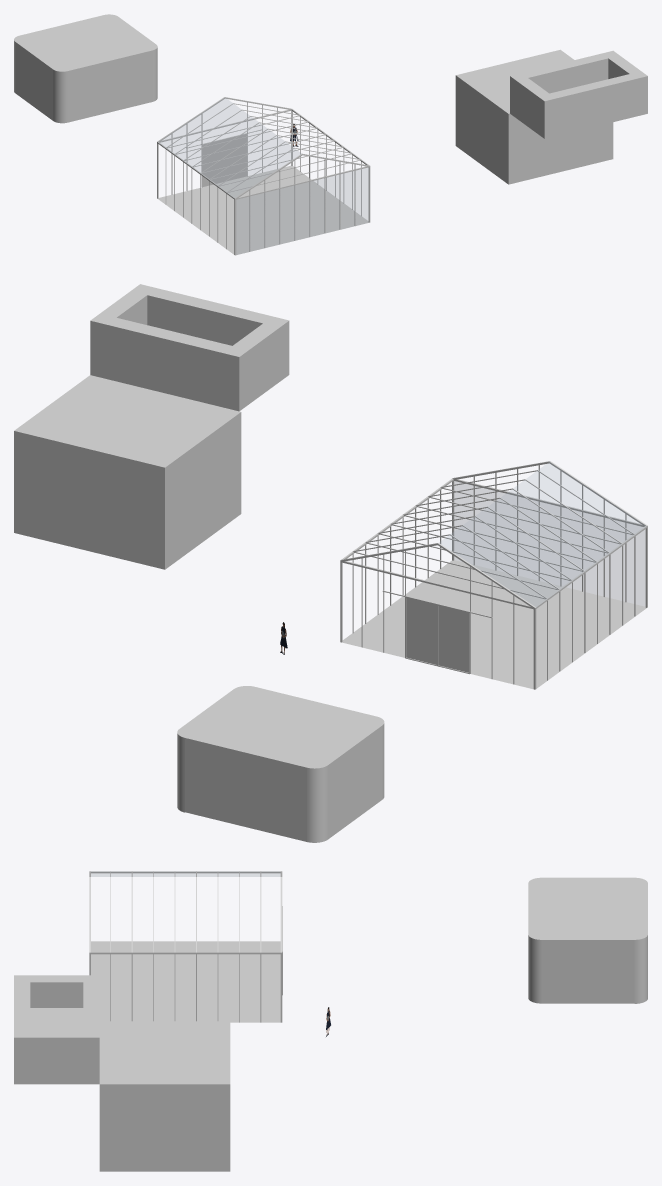
File: Мой первый 3Д.obj
3 renders of one model, top to bottom at view 1: azimuth 30°, elevation 25°; view 2: azimuth 150°, elevation 25°; view 3: azimuth 270°, elevation 25°, orthographic. The views are drawn at different scales.
Visible parts, largest first — view 1: Mesh43 Group43 Model, Mesh77 Model, Mesh1 Group1 Model, Mesh75 Model, Mesh76 Model, Mesh72 Group86 Model; view 2: Mesh43 Group43 Model, Mesh77 Model, Mesh1 Group1 Model, Mesh76 Model, Mesh75 Model, Mesh72 Group86 Model; view 3: Mesh43 Group43 Model, Mesh77 Model, Mesh1 Group1 Model, Mesh76 Model, Mesh6 Group6 Model, Mesh7 Group7 Model.
Boxes of the visible parts, x1,y1,x2,y2 form: Mesh43 Group43 Model: (455, 49, 647, 184); Mesh77 Model: (14, 14, 157, 123); Mesh1 Group1 Model: (158, 165, 368, 254); Mesh75 Model: (236, 168, 368, 254); Mesh76 Model: (158, 98, 301, 197); Mesh72 Group86 Model: (202, 134, 246, 186); Mesh43 Group43 Model: (14, 284, 289, 569); Mesh77 Model: (177, 686, 384, 842); Mesh1 Group1 Model: (342, 560, 646, 689); Mesh76 Model: (439, 462, 646, 606); Mesh75 Model: (454, 481, 645, 605); Mesh72 Group86 Model: (405, 597, 470, 674); Mesh43 Group43 Model: (14, 975, 230, 1171); Mesh77 Model: (528, 877, 647, 1003); Mesh1 Group1 Model: (91, 941, 280, 1022); Mesh76 Model: (91, 871, 280, 876); Mesh6 Group6 Model: (91, 952, 280, 954); Mesh7 Group7 Model: (91, 871, 280, 873).
Size of the model in its own units: 28.28 by 7.66 by 32.86.
